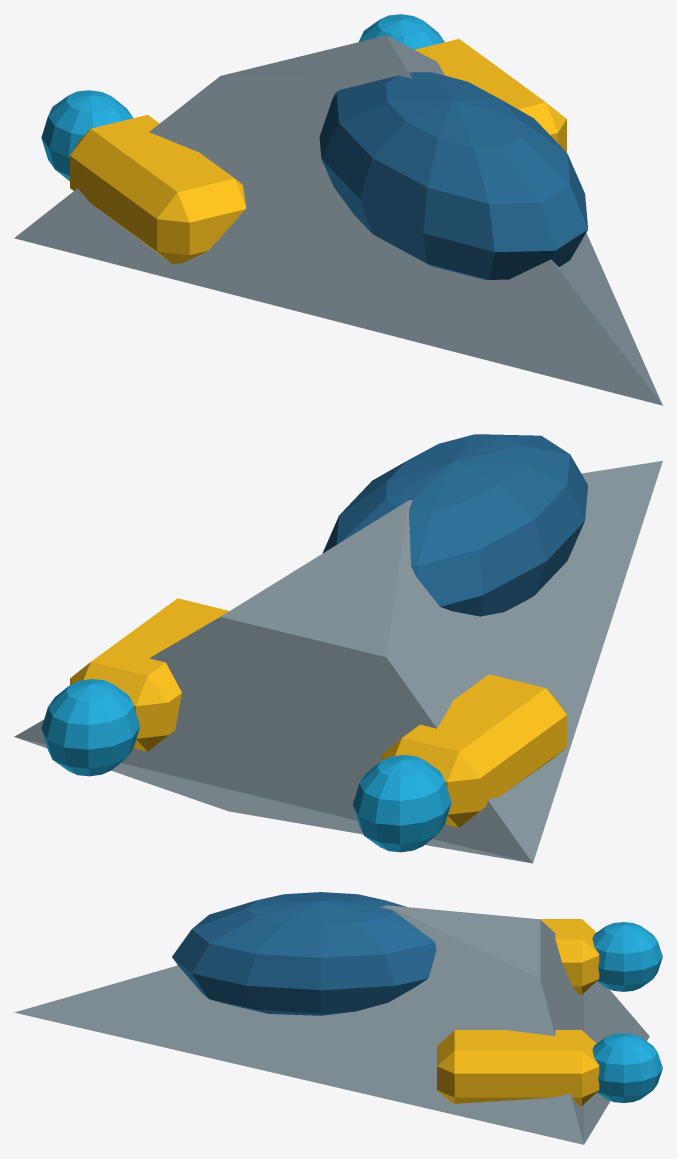
File: ship.glb
The picture shows the model from 3 angles, top to bottom: view 1: azimuth 30°, elevation 25°; view 2: azimuth 150°, elevation 25°; view 3: azimuth 270°, elevation 25°; orthographic projection. The views are drawn at different scales.
Parts seen in each view (by area): view 1: ship; view 2: ship; view 3: ship.
Part boxes in pixels (box(x1,y1,x2,y2)): ship: box(14, 14, 662, 405); ship: box(14, 434, 662, 863); ship: box(14, 892, 662, 1144).
Size of the model in its own units: 1 by 0.38 by 1.48.
